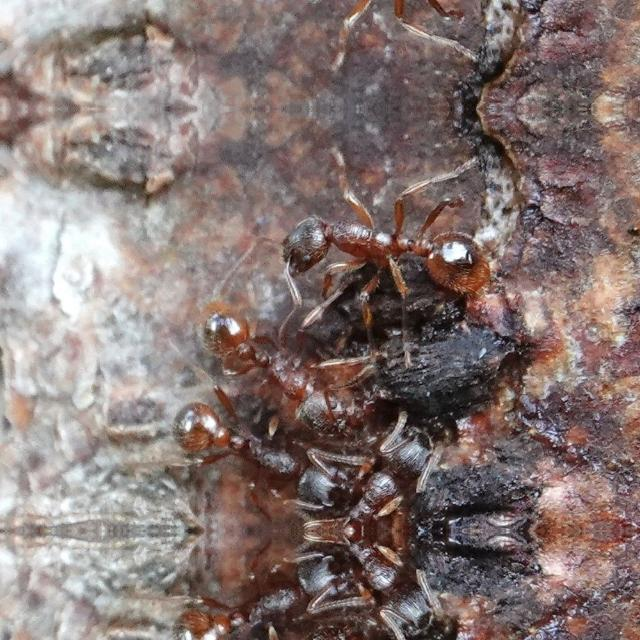Myrmica: (256, 188, 514, 308), (185, 319, 371, 466), (136, 381, 334, 512), (134, 548, 333, 640), (311, 422, 429, 530), (311, 530, 429, 638), (185, 592, 371, 640), (255, 0, 512, 28)
